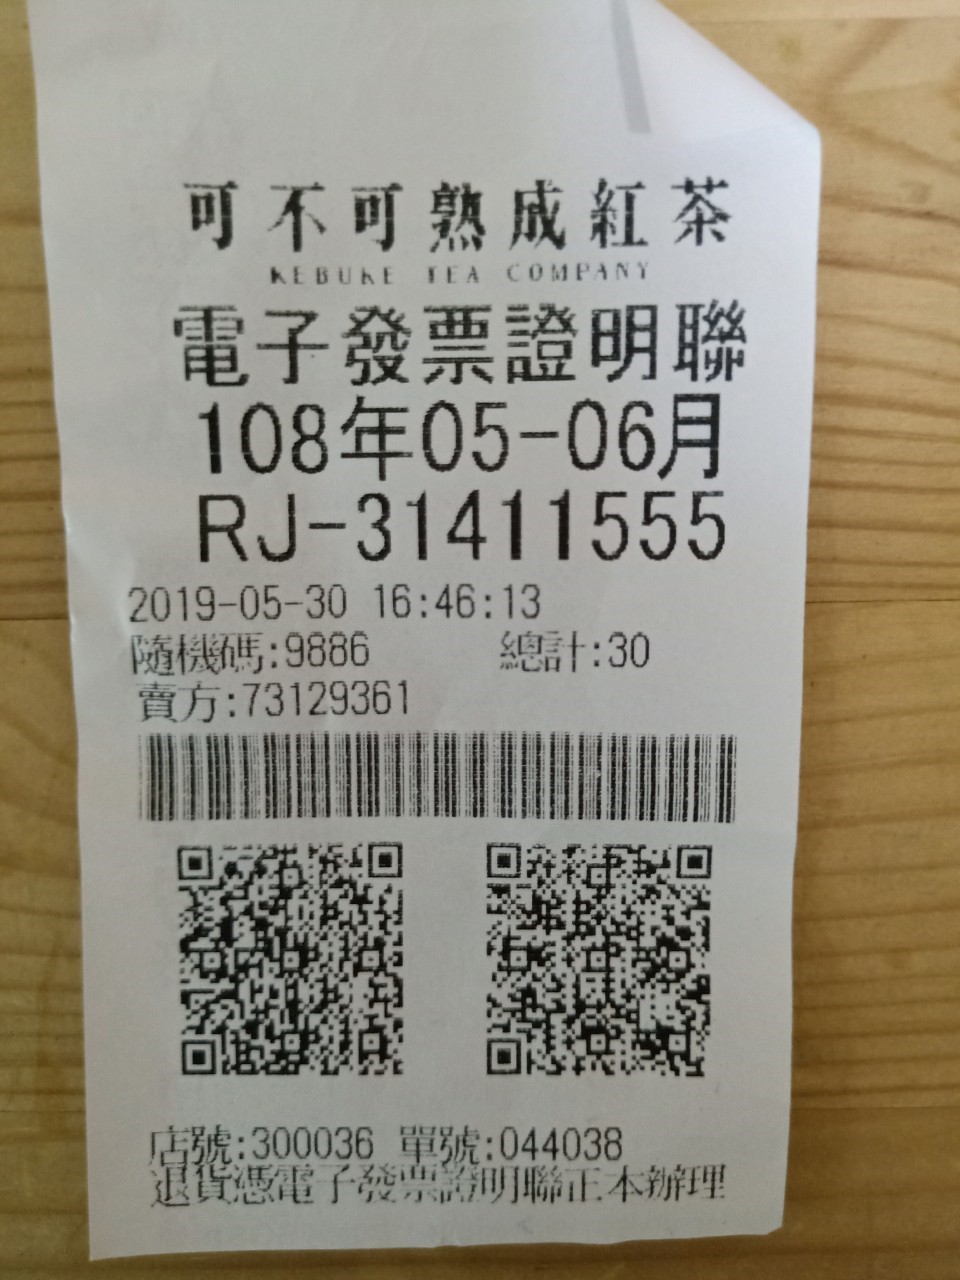Date_New: (195, 392, 723, 482)
Number_New: (356, 492, 728, 563)
